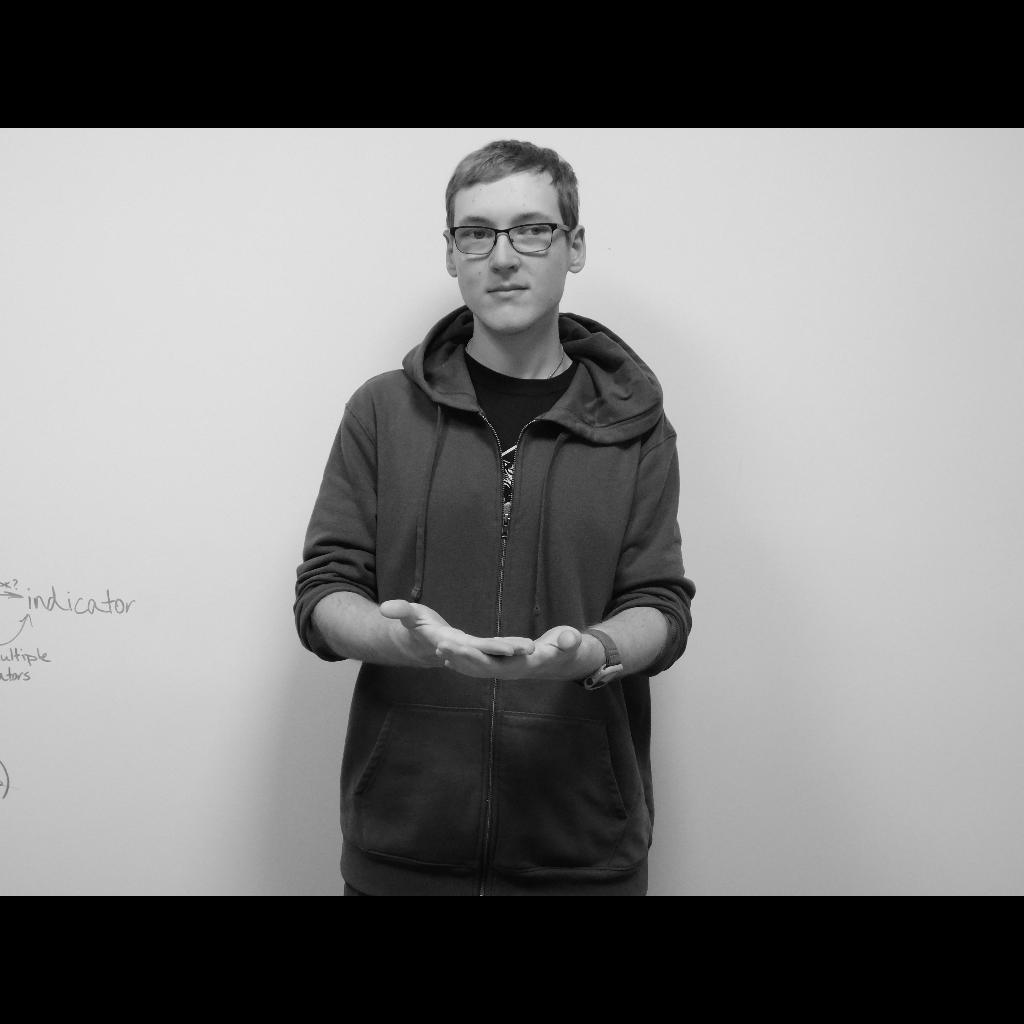good: (382, 600, 586, 680)
